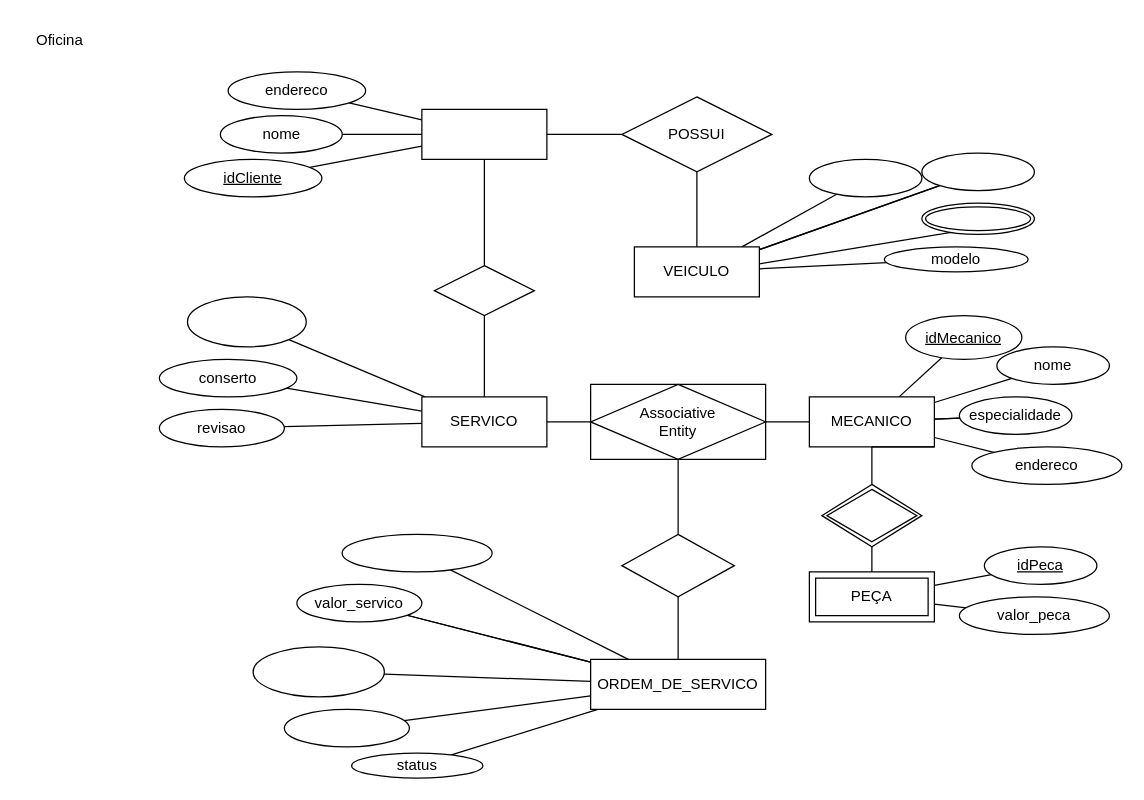
The diagram is 1144 pixels wide and 800 high, and some of its shapes have lost their labels. Here are the shapes that lost their labels. From the top down, the centre of each, then its label:
At point (484, 133): "CLIENTE".
At point (865, 177): "placa".
At point (977, 171): "idVeiculo".
At point (977, 218): "cor".
At point (483, 290): "SOLICITA".
At point (246, 321): "idServico".
At point (871, 515): "UTILIZA".
At point (416, 552): "data_conclusao".
At point (677, 565): "GERA".
At point (318, 671): "idOrdemServico".
At point (346, 727): "data_emissao".
